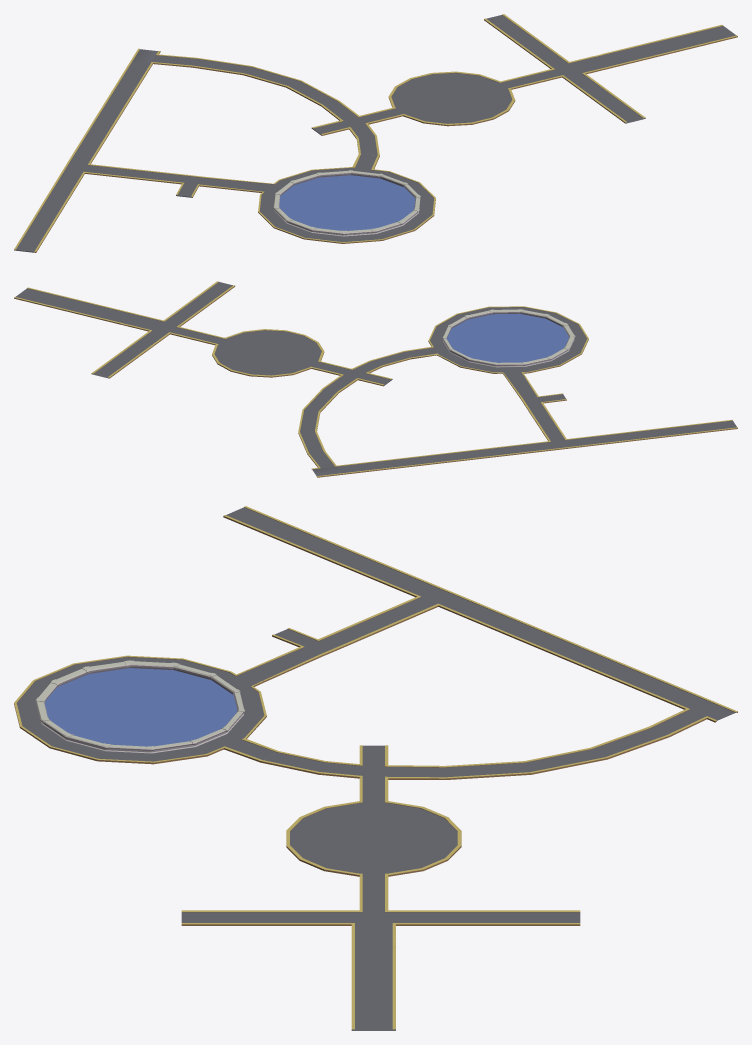
File: Road.fbx
3 renders of one model, top to bottom at view 1: azimuth 30°, elevation 25°; view 2: azimuth 150°, elevation 25°; view 3: azimuth 270°, elevation 25°, orthographic. The views are drawn at different scales.
Visible parts, largest first — view 1: Cube.001; view 2: Cube.001; view 3: Cube.001.
Part boxes in pixels (x1=…): Cube.001: x1=14, y1=14, x2=737, y2=252; Cube.001: x1=14, y1=281, x2=737, y2=477; Cube.001: x1=14, y1=506, x2=737, y2=1030.
Size of the model in its own units: 26420 by 149 by 15448.
